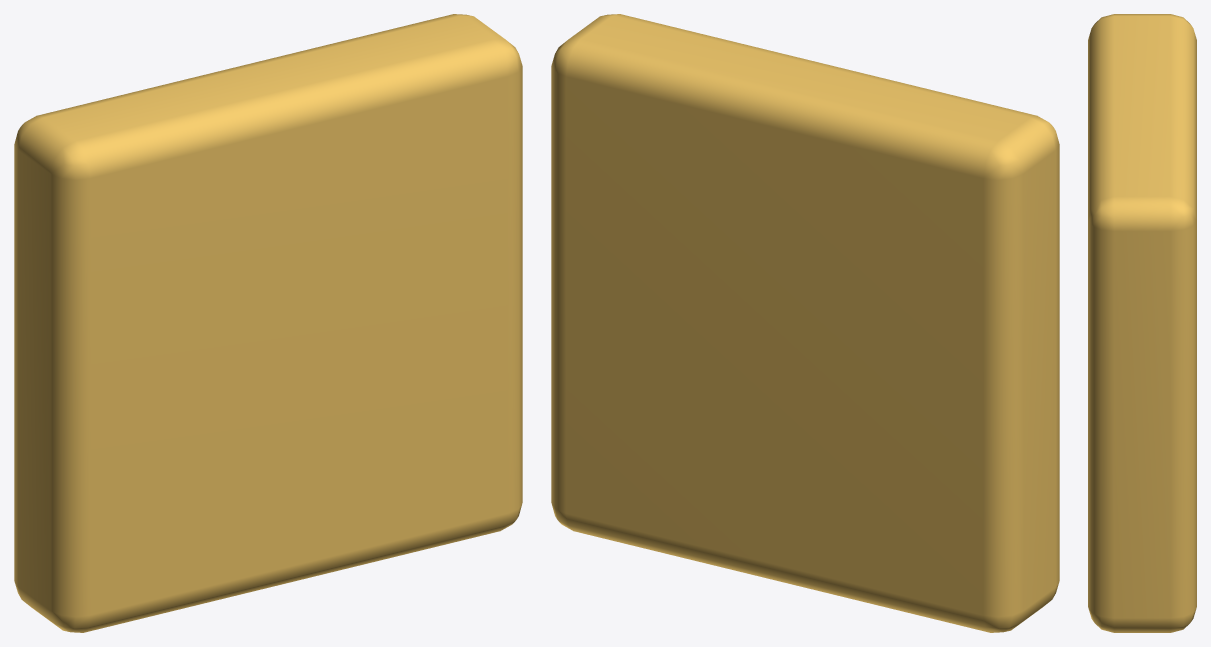
File: shape-square-yellow.glb
3 renders of one model, left to right at view 1: azimuth 30°, elevation 25°; view 2: azimuth 150°, elevation 25°; view 3: azimuth 270°, elevation 25°, orthographic. The views are drawn at different scales.
Parts seen in each view (by area): view 1: solid square; view 2: solid square; view 3: solid square.
Boxes of the visible parts, <box> form: solid square: <box>14,14,522,632</box>; solid square: <box>551,14,1059,632</box>; solid square: <box>1088,14,1196,632</box>.
Bounding box in the file's own units: 1.1 × 1.1 × 0.25.
